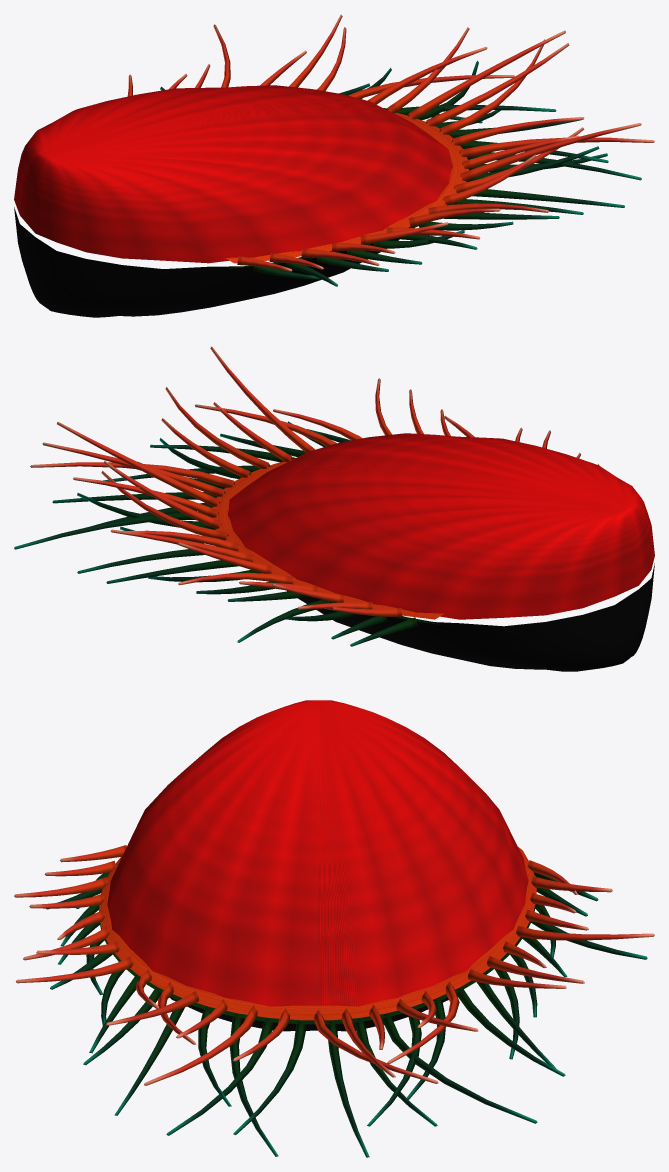
The model's file is flame_scallop.glb.
The picture shows the model from 3 angles, top to bottom: view 1: azimuth 30°, elevation 25°; view 2: azimuth 150°, elevation 25°; view 3: azimuth 270°, elevation 25°; orthographic projection. The views are drawn at different scales.
Visible parts, largest first — view 1: Shell, Tentacles, Mantle; view 2: Shell, Tentacles, Mantle; view 3: Shell, Tentacles, Mantle.
Part boxes in pixels (x1=…): Shell: x1=14, y1=85, x2=452, y2=317; Tentacles: x1=127, y1=14, x2=654, y2=286; Mantle: x1=225, y1=113, x2=468, y2=268; Shell: x1=227, y1=433, x2=654, y2=671; Tentacles: x1=14, y1=346, x2=599, y2=646; Mantle: x1=212, y1=459, x2=443, y2=624; Shell: x1=107, y1=700, x2=528, y2=1031; Tentacles: x1=14, y1=845, x2=654, y2=1157; Mantle: x1=99, y1=847, x2=536, y2=1024.
Bounding box in the file's own units: 1.37 × 0.348 × 1.12.
Materials: 2 (2 with a texture image).
